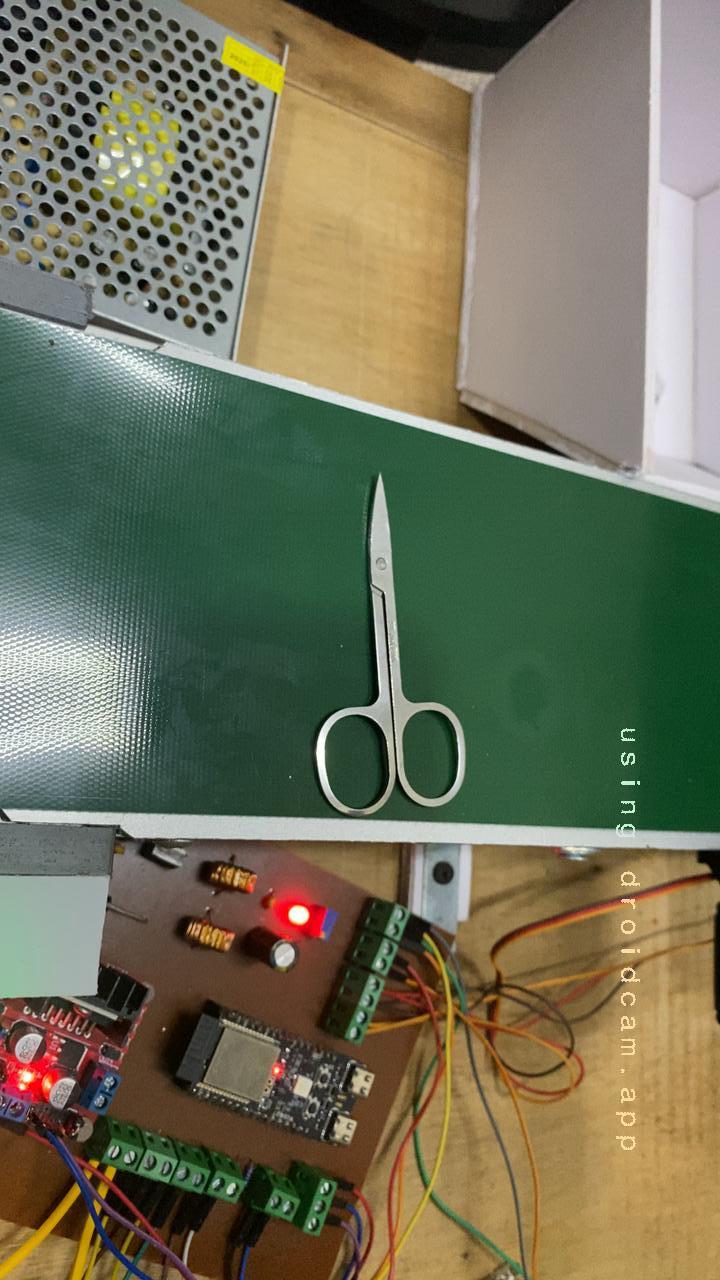scissor: (271, 462, 488, 827)
